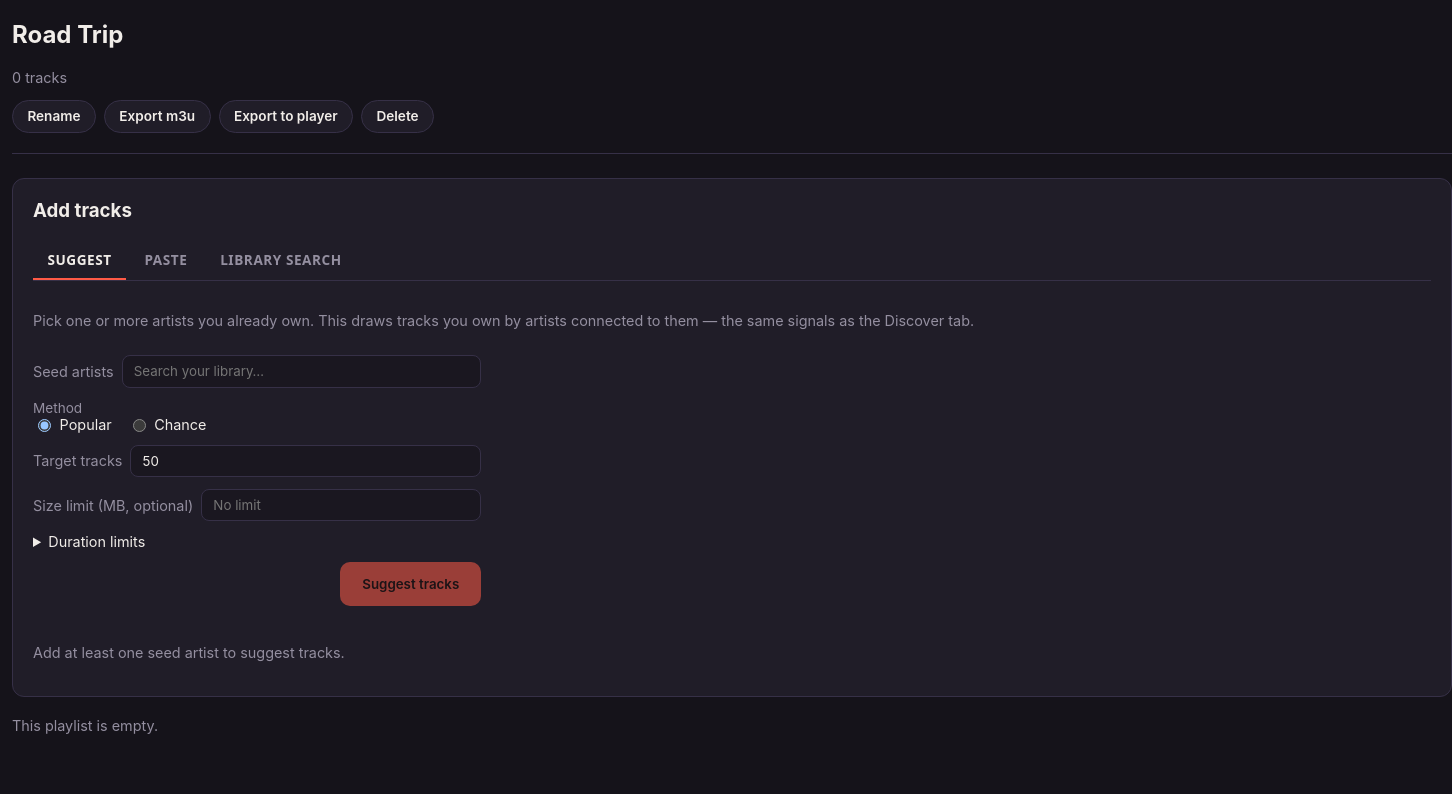
PlaylistDetail drop-off Replace gate › does not request replace until Replace is clicked, and does so once clicked
Expected: the heading "Road Trip" is shown, top-left (12, 20), bottom-right (123, 49)
Click the button "Export to player": point(286, 116) top-left (218, 100), bottom-right (353, 133)
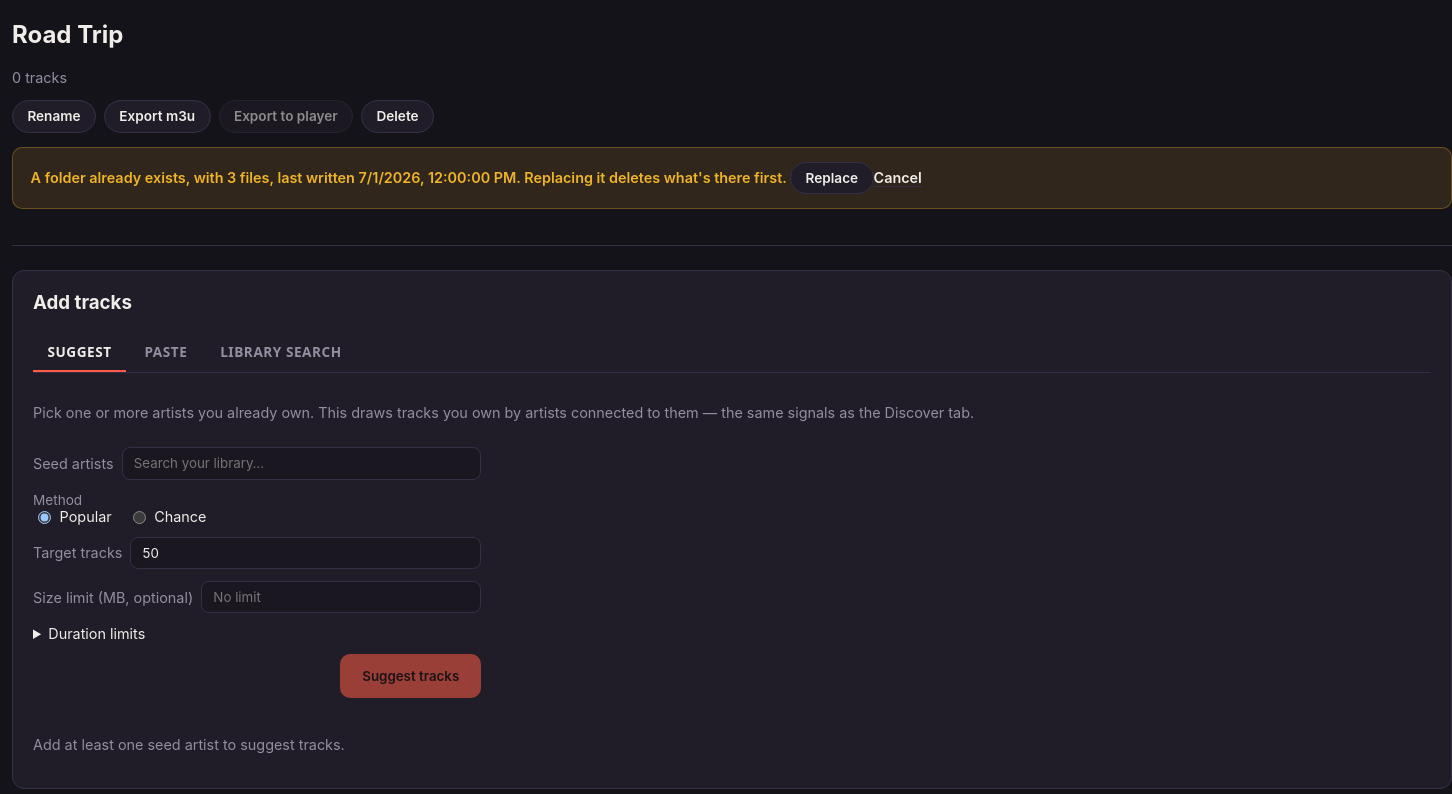
Now the text "A folder already exists" is shown, box top-left (31, 169), bottom-right (186, 186)
Click the button "Replace": point(832, 178) top-left (790, 162), bottom-right (874, 194)
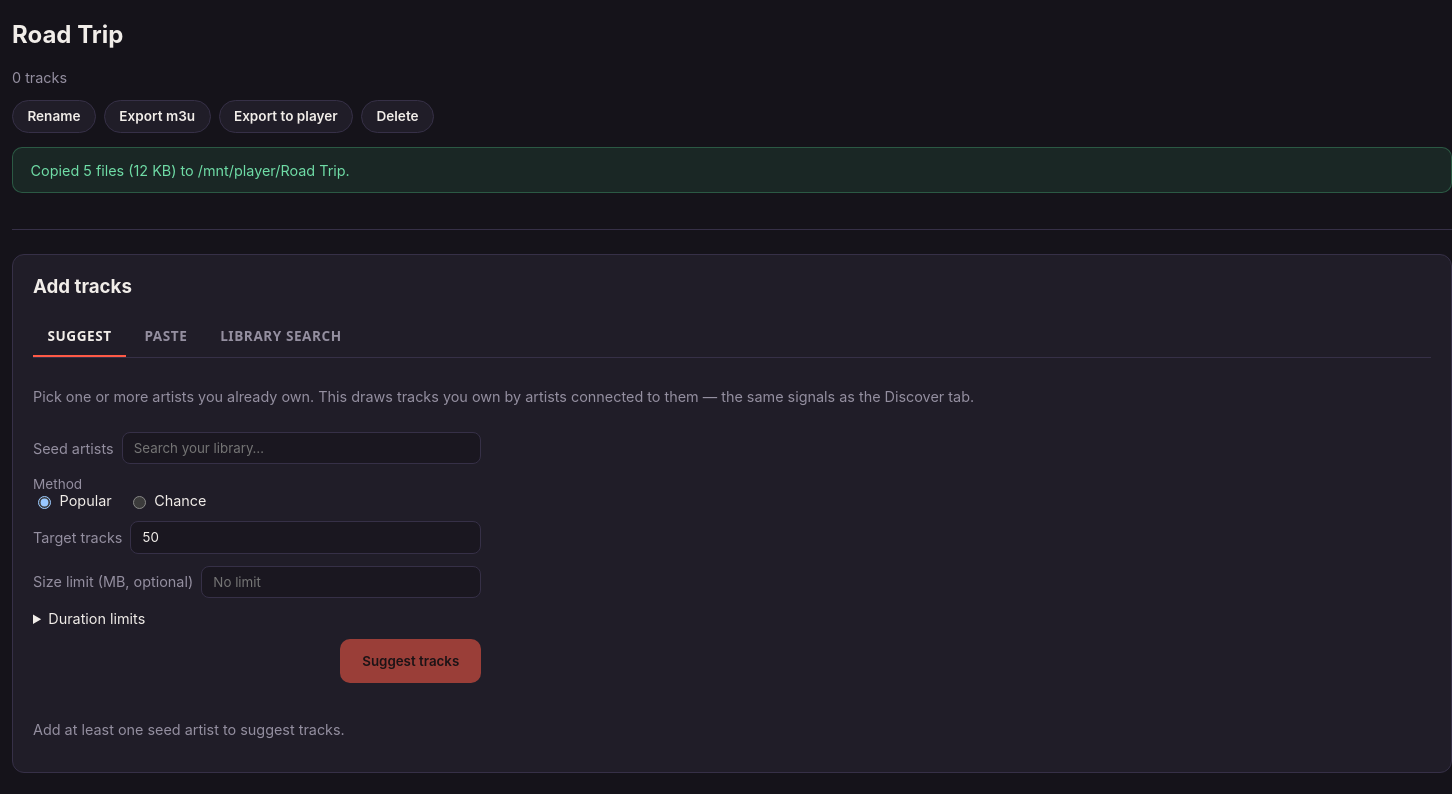
Now the text "Copied 5 files (12 KB) to /mnt/player/Road Trip." is shown, box top-left (12, 147), bottom-right (1451, 193)
